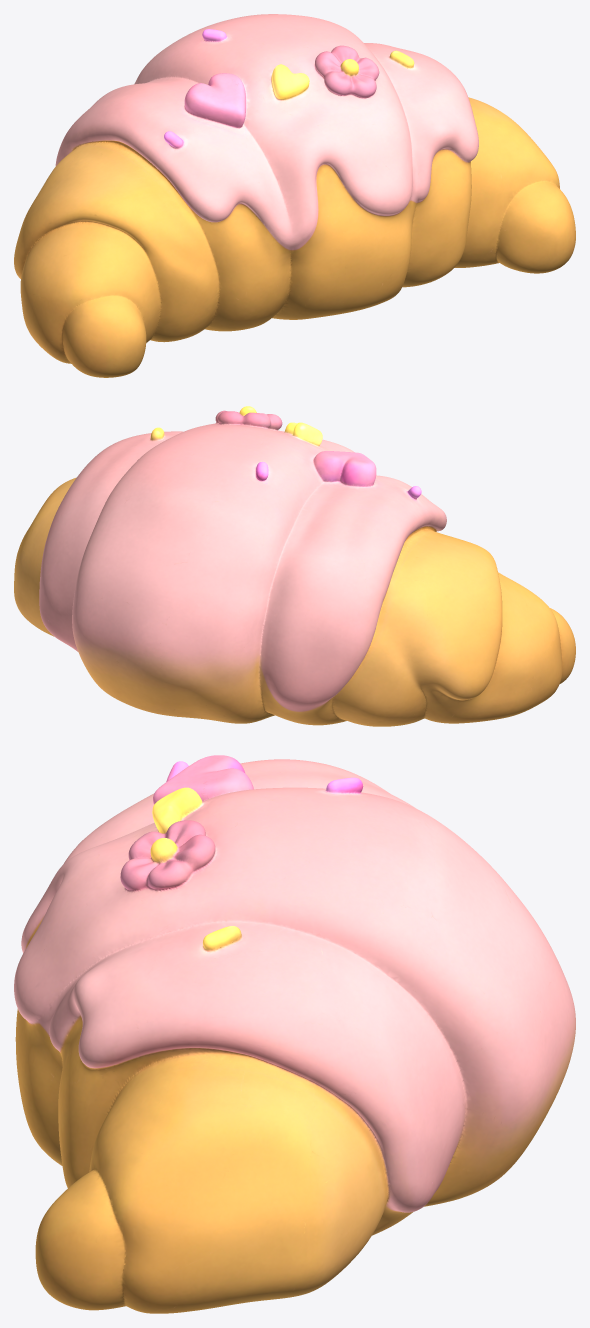
Rendered from Meshy_AI_Pastel_Dream_Croissan_0602071946_texture.fbx.
3 renders of one model, top to bottom at view 1: azimuth 30°, elevation 25°; view 2: azimuth 150°, elevation 25°; view 3: azimuth 270°, elevation 25°, orthographic. The views are drawn at different scales.
Visible parts, largest first — view 1: Mesh_0; view 2: Mesh_0; view 3: Mesh_0.
Boxes of the visible parts, x1,y1,x2,y2 form: Mesh_0: (14, 14, 575, 377); Mesh_0: (14, 406, 575, 726); Mesh_0: (14, 755, 575, 1313).
Bounding box in the file's own units: 190 × 81.75 × 120.
Materials: 1 (1 with a texture image).
